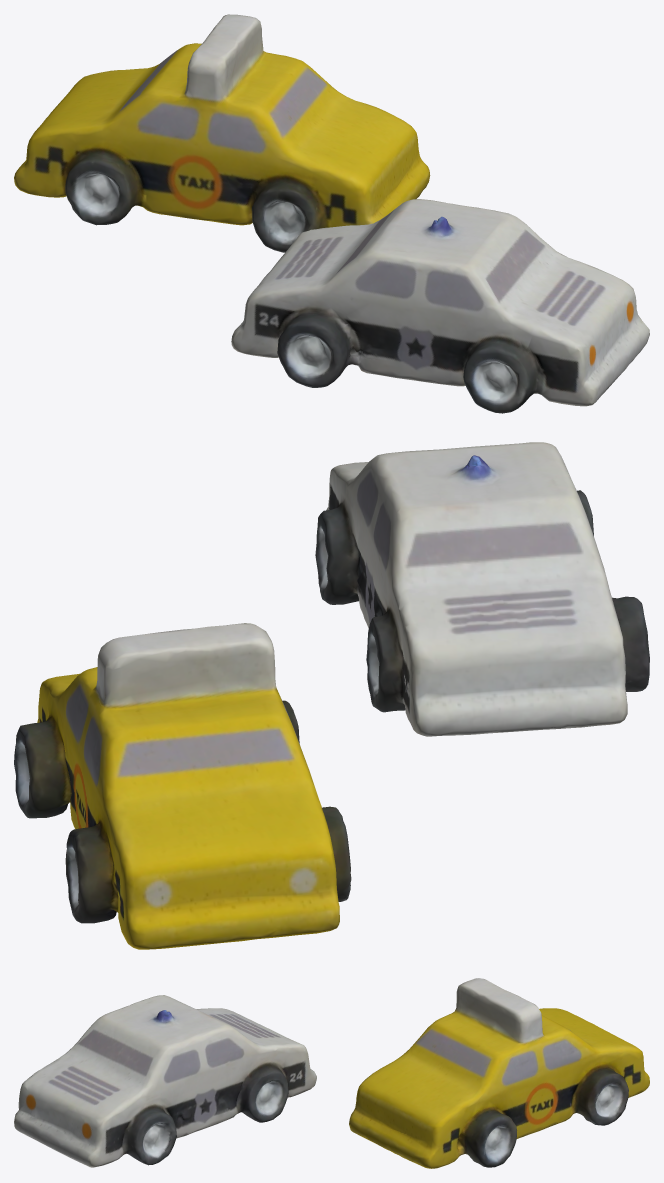
The model's file is CITY_TAXI_POLICE_CAR.glb.
The picture shows the model from 3 angles, top to bottom: view 1: azimuth 30°, elevation 25°; view 2: azimuth 150°, elevation 25°; view 3: azimuth 270°, elevation 25°; orthographic projection. The views are drawn at different scales.
Parts seen in each view (by area): view 1: CITY_TAXI_POLICE_CAR; view 2: CITY_TAXI_POLICE_CAR; view 3: CITY_TAXI_POLICE_CAR.
Boxes of the visible parts, x1=… form: CITY_TAXI_POLICE_CAR: x1=14, y1=14, x2=649, y2=413; CITY_TAXI_POLICE_CAR: x1=14, y1=442, x2=649, y2=949; CITY_TAXI_POLICE_CAR: x1=14, y1=978, x2=649, y2=1168.
Size of the model in its own units: 0.0566 by 0.028 by 0.1263.
Materials: 1 (1 with a texture image).
